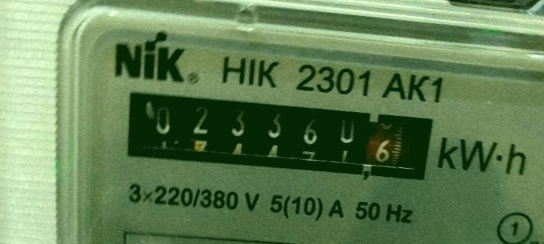0: (148, 101, 175, 138), (332, 114, 358, 148)
2: (188, 102, 212, 138)
3: (262, 106, 286, 141), (224, 106, 247, 140)
6: (369, 132, 395, 168), (296, 113, 322, 148)
screen: (103, 65, 451, 207)
